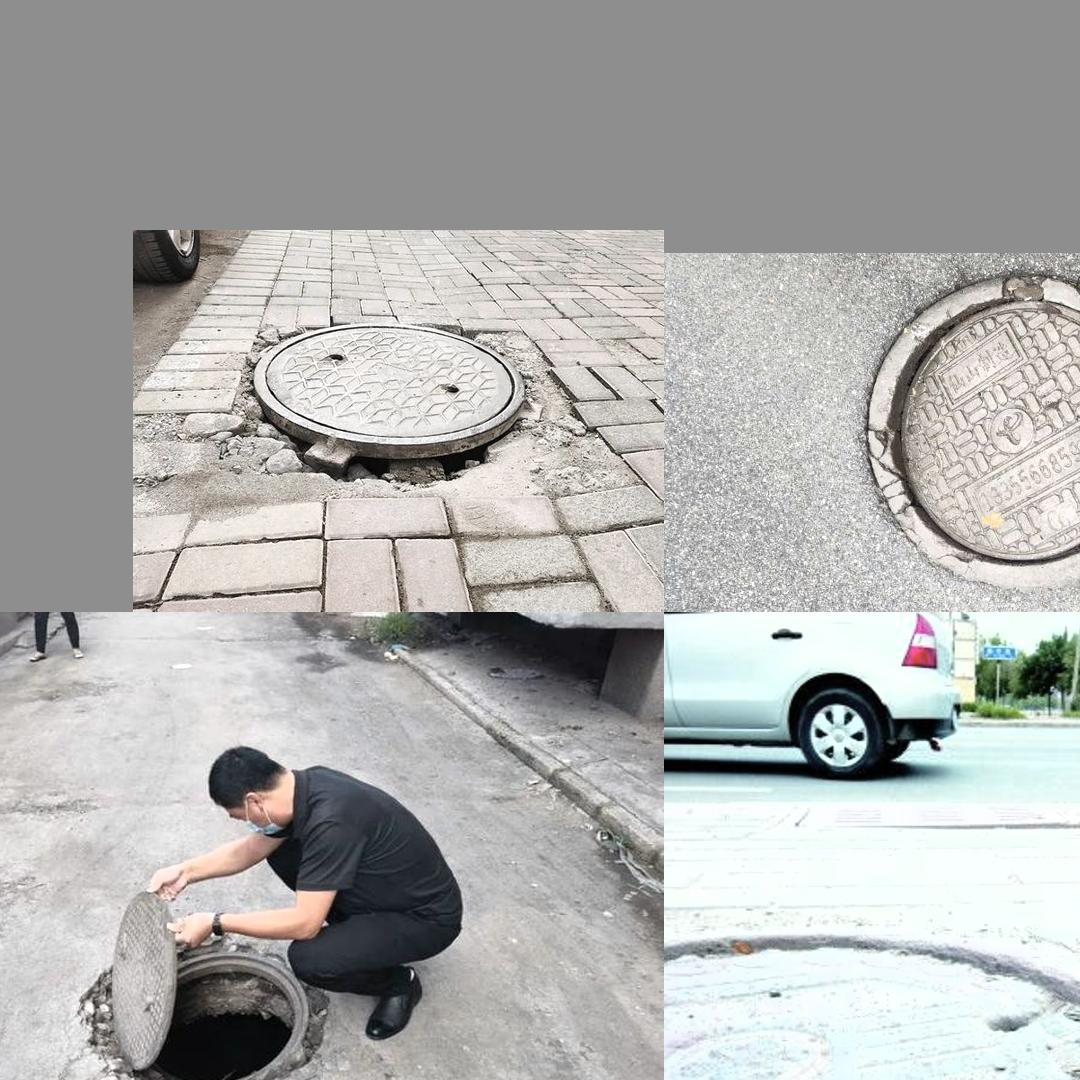circle: (823, 273, 1080, 586), (183, 323, 631, 497), (675, 908, 1080, 1080), (58, 907, 375, 1080)
